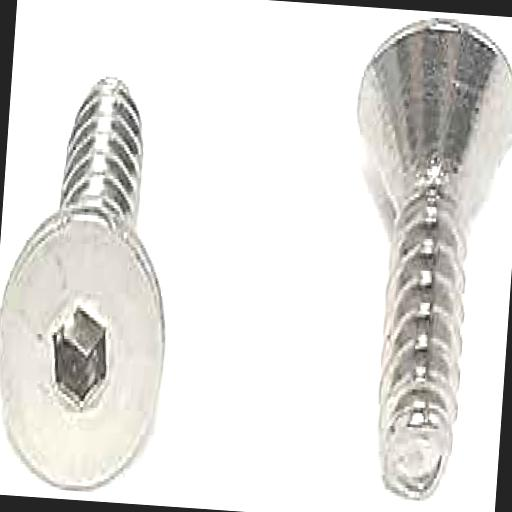Hex-Allen: (0, 206, 173, 496)
